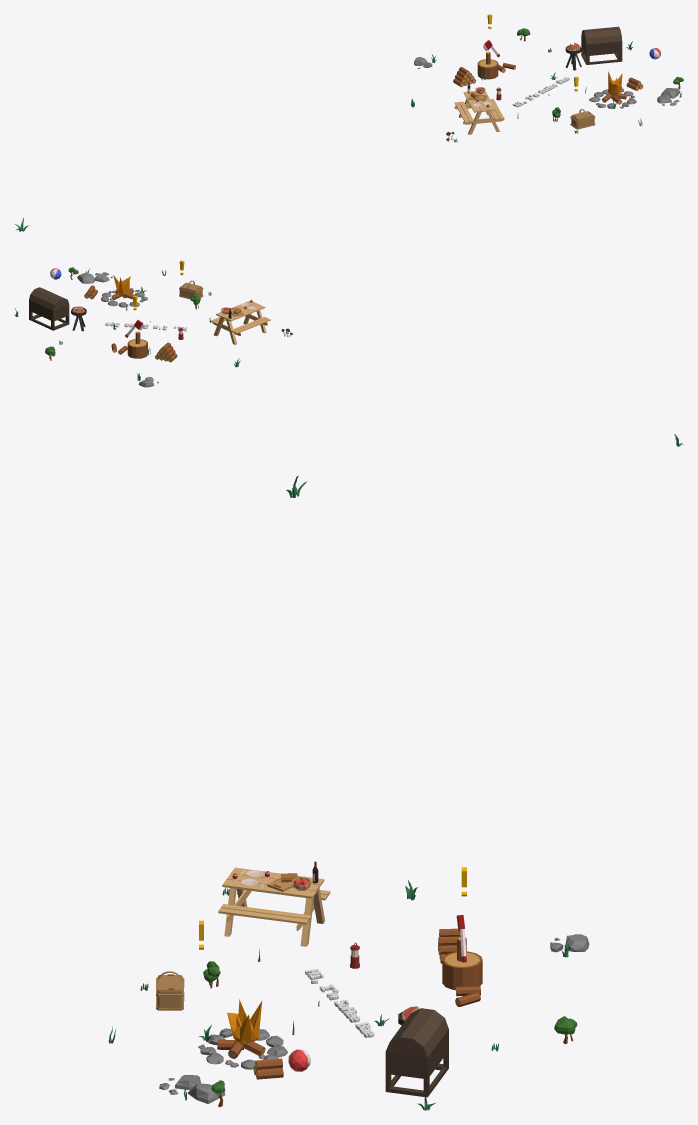
File: HomeModels.glb
3 renders of one model, top to bottom at view 1: azimuth 30°, elevation 25°; view 2: azimuth 150°, elevation 25°; view 3: azimuth 270°, elevation 25°, orthographic. The views are drawn at different scales.
Parts seen in each view (by area): view 1: Bush_temp_climate_001, table, barbeque, backwood, stone, barbequecover; view 2: table, Bush_temp_climate_001, barbeque, backwood, barbequecover, stone; view 3: table, Bush_temp_climate_001, barbeque, backwood, stone, barbequecover, fire.
Boxes of the visible parts, x1,y1,x2,y2 form: Bush_temp_climate_001: [14, 28, 683, 231]; table: [454, 87, 504, 134]; barbeque: [565, 35, 622, 70]; backwood: [453, 59, 515, 87]; stone: [589, 82, 643, 108]; barbequecover: [581, 26, 621, 44]; table: [210, 301, 270, 344]; Bush_temp_climate_001: [14, 267, 683, 446]; barbeque: [29, 300, 86, 331]; backwood: [111, 339, 177, 362]; barbequecover: [29, 287, 69, 310]; stone: [84, 288, 147, 307]; table: [218, 867, 330, 946]; Bush_temp_climate_001: [108, 476, 589, 1110]; barbeque: [385, 1011, 448, 1097]; backwood: [438, 928, 482, 1006]; stone: [198, 1028, 287, 1079]; barbequecover: [385, 1008, 448, 1057]; fire: [227, 999, 262, 1044].
Bounding box in the file's own units: 42.52 × 3.74 × 13.9.
